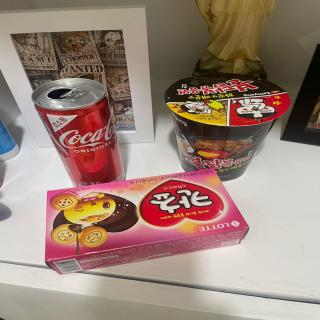cocacola: (31, 75, 130, 189)
